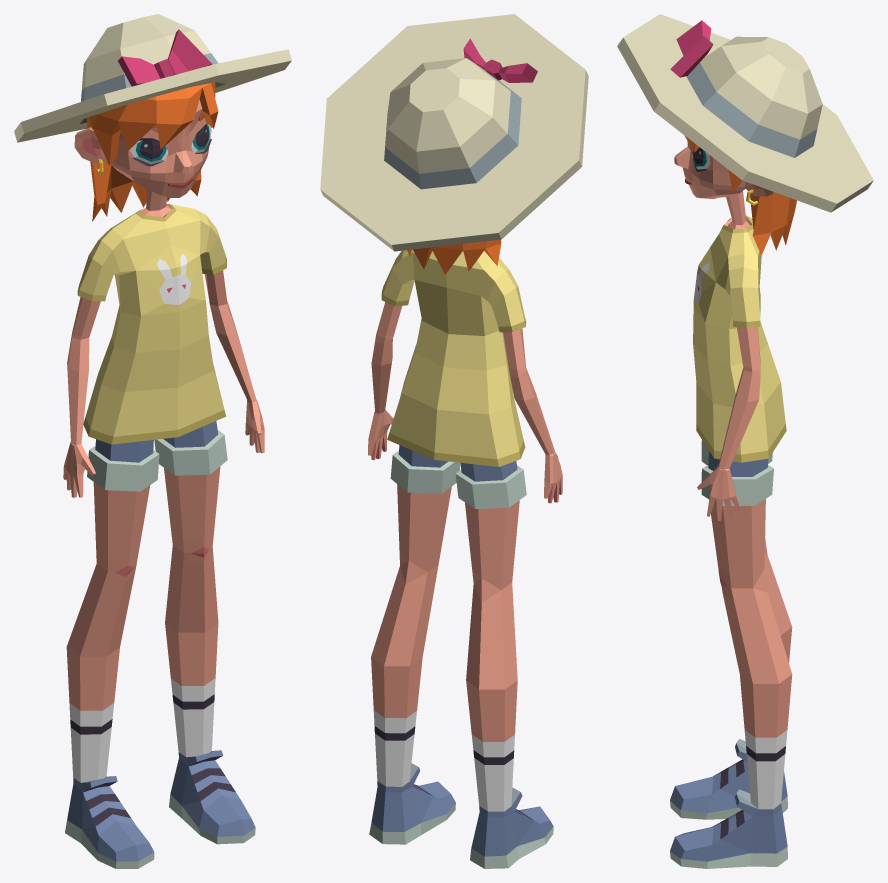
Rendered from human_08.obj.
3 renders of one model, left to right at view 1: azimuth 30°, elevation 25°; view 2: azimuth 150°, elevation 25°; view 3: azimuth 270°, elevation 25°, orthographic. The views are drawn at different scales.
Parts seen in each view (by area): view 1: body, hat, hair, eyes; view 2: body, hat, hair; view 3: body, hat, hair.
Part boxes in pixels (box(x1,y1,x2,y2)): body: box(63, 99, 264, 868); hat: box(14, 14, 291, 142); hair: box(87, 82, 218, 221); eyes: box(130, 123, 211, 166); body: box(368, 249, 562, 868); hat: box(320, 14, 588, 251); hair: box(407, 239, 501, 274); body: box(670, 141, 792, 868); hat: box(617, 14, 873, 212); hair: box(684, 135, 796, 255).
Size of the model in its own units: 0.8991 by 2.68 by 0.7795.
Materials: 1 (1 with a texture image).
